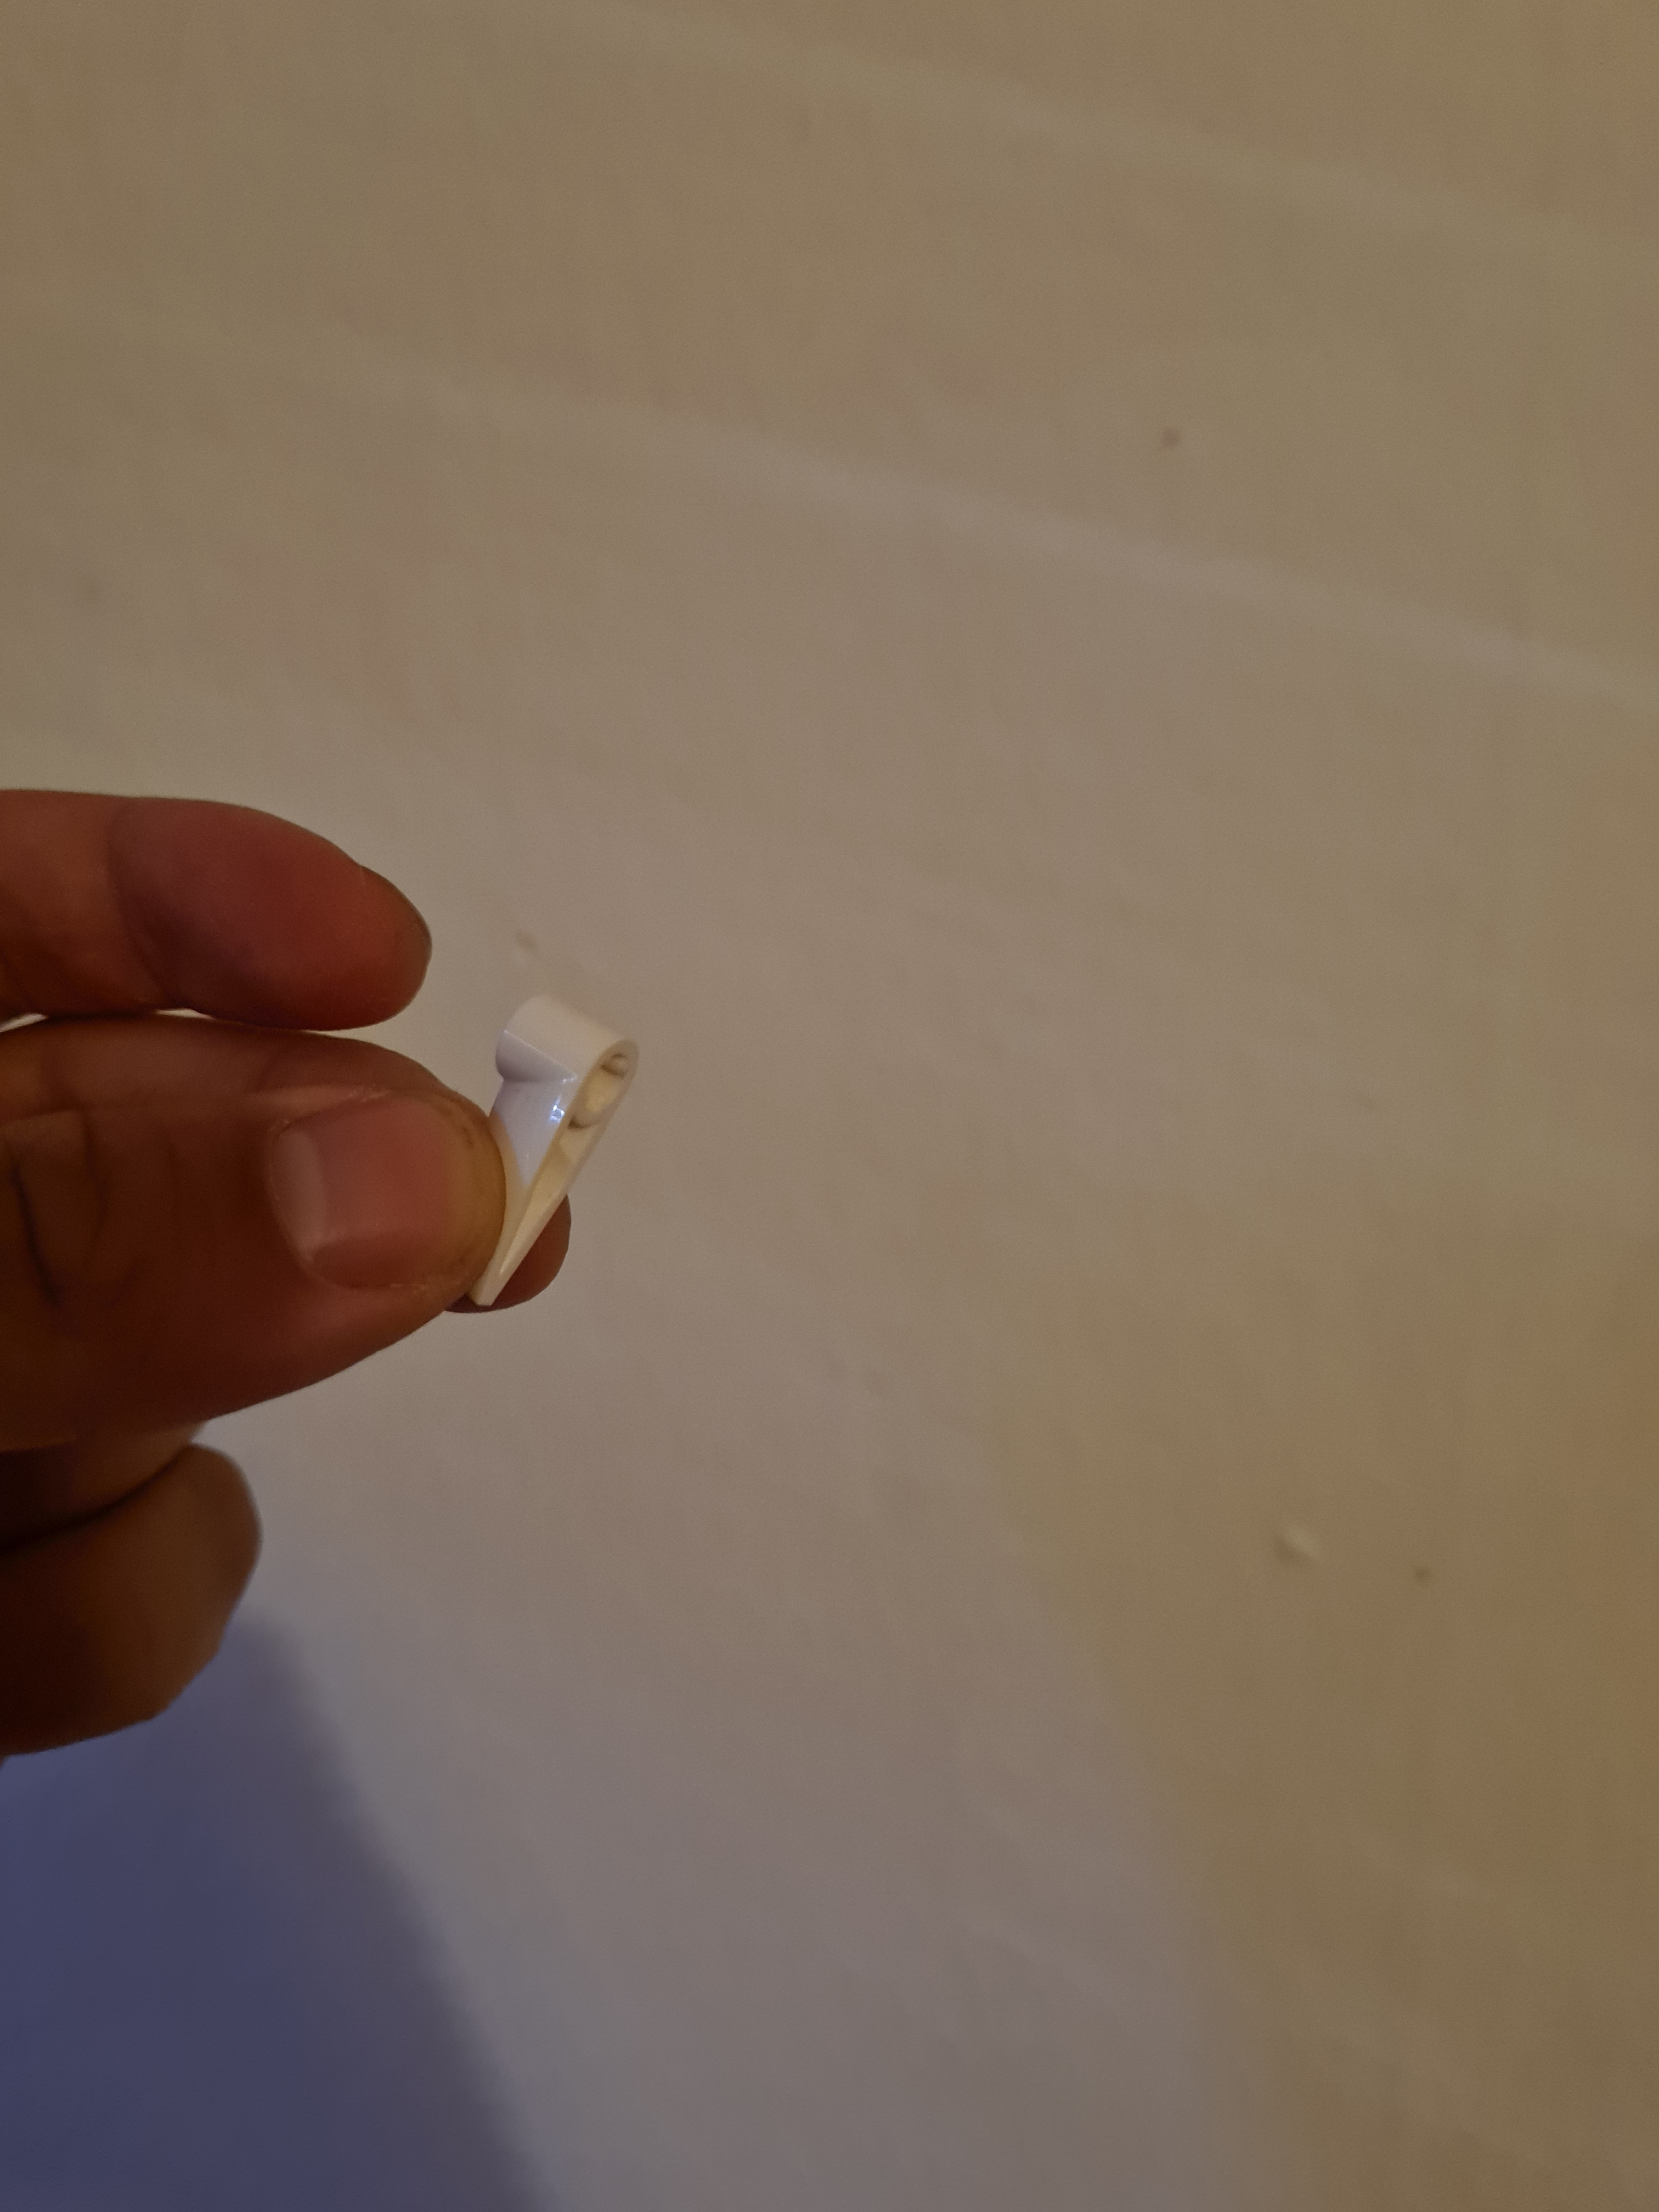Kappe: (415, 958, 652, 1371)
